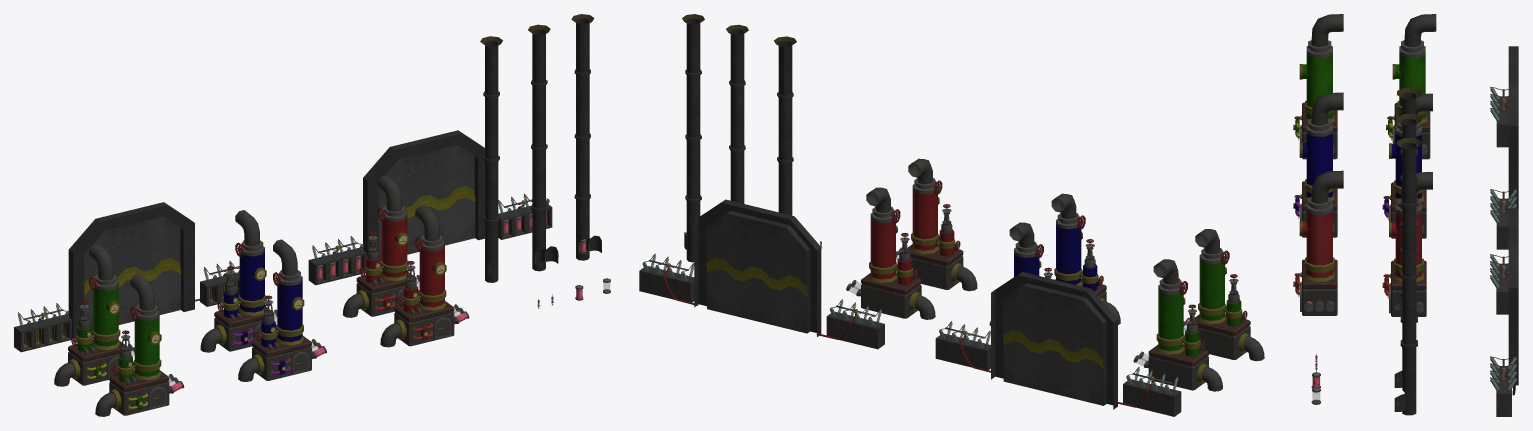
Rendered from free_pack_-_steampunk_machinery._low_poly.glb.
The picture shows the model from 3 angles, left to right: view 1: azimuth 30°, elevation 25°; view 2: azimuth 150°, elevation 25°; view 3: azimuth 270°, elevation 25°; orthographic projection. The views are drawn at different scales.
Parts seen in each view (by area): view 1: Portal_Gate.002, Portal_Gate.001, Station.Bullet.001, Station.Drug.002, Station.Health.001, Station.Bullet.002, Station.Drug.001, Station.Health.002, Pipe.Small.Export.001, Pipe.Small.Export.002, Pipe.Small.Export.003, Battery.Right.002 (+3 smaller); view 2: Portal_Gate.001, Portal_Gate.002, Station.Drug.001, Station.Bullet.002, Station.Bullet.001, Station.Drug.002, Pipe.Small.Export.002, Station.Health.001, Pipe.Small.Export.001, Pipe.Small.Export.003, Battery.Right.001, Battery.Right.002 (+3 smaller); view 3: Station.Drug.002, Pipe.Small.Export.002, Station.Bullet.001, Station.Health.001, Station.Bullet.002, Station.Drug.001, Station.Health.002, Portal_Gate.001, Portal_Gate.002, Battery.Left.001, Battery.Left.002, Battery.Right.002 (+3 smaller).
Boxes of the visible parts, x1,y1,x2,y2 form: Portal_Gate.002: [68, 202, 194, 338]; Portal_Gate.001: [363, 130, 484, 260]; Station.Bullet.001: [95, 274, 172, 416]; Station.Drug.002: [380, 204, 457, 347]; Station.Health.001: [238, 239, 315, 381]; Station.Bullet.002: [54, 244, 127, 386]; Station.Drug.001: [343, 175, 418, 317]; Station.Health.002: [200, 210, 276, 352]; Pipe.Small.Export.001: [528, 24, 558, 271]; Pipe.Small.Export.002: [571, 14, 601, 260]; Pipe.Small.Export.003: [480, 36, 502, 282]; Battery.Right.002: [14, 303, 71, 352]; Portal_Gate.001: [694, 199, 821, 336]; Portal_Gate.002: [991, 272, 1117, 409]; Station.Drug.001: [857, 187, 935, 319]; Station.Bullet.002: [1145, 259, 1222, 391]; Station.Bullet.001: [1195, 229, 1264, 361]; Station.Drug.002: [907, 158, 977, 291]; Pipe.Small.Export.002: [682, 14, 704, 262]; Station.Health.001: [1051, 193, 1120, 324]; Pipe.Small.Export.001: [726, 24, 748, 203]; Pipe.Small.Export.003: [774, 36, 796, 215]; Battery.Right.001: [816, 299, 884, 349]; Battery.Right.002: [1115, 367, 1181, 416]; Station.Drug.002: [1293, 170, 1343, 315]; Pipe.Small.Export.002: [1394, 138, 1421, 415]; Station.Bullet.001: [1293, 14, 1343, 159]; Station.Health.001: [1293, 92, 1343, 237]; Station.Bullet.002: [1386, 14, 1436, 159]; Station.Drug.001: [1382, 172, 1432, 316]; Station.Health.002: [1382, 93, 1432, 238]; Portal_Gate.001: [1508, 208, 1518, 385]; Portal_Gate.002: [1508, 46, 1518, 208]; Battery.Left.001: [1490, 356, 1516, 416]; Battery.Left.002: [1490, 189, 1517, 249]; Battery.Right.002: [1490, 87, 1508, 147].
Size of the model in its own units: 15.12 by 6.4 by 4.86.
14 materials, 14 textured.
